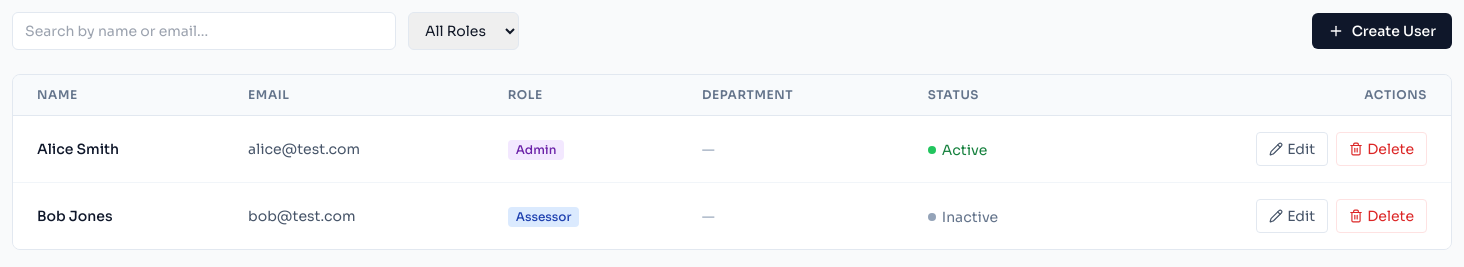
Scenario: UsersList › filters users by role
Select "Assessor" in the dropdown: point(464, 31) [408,12,519,50]
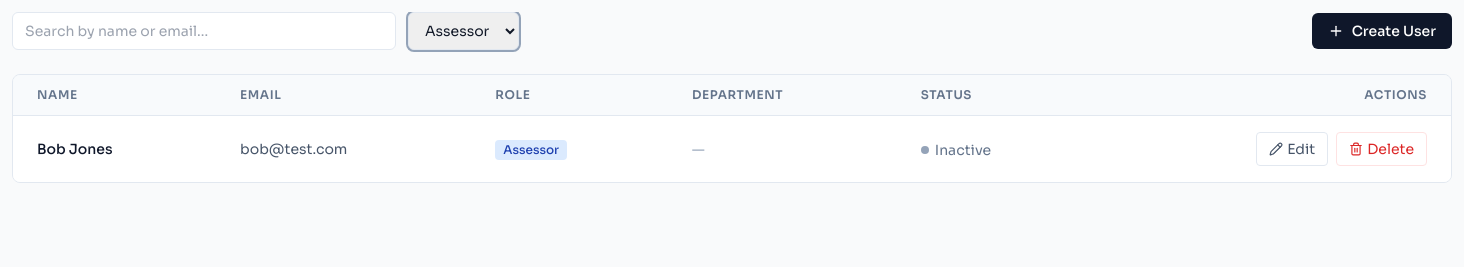
Expected: the text "Bob Jones" is shown, [13,116,216,182]
Now the text "Alice Smith" is gone
